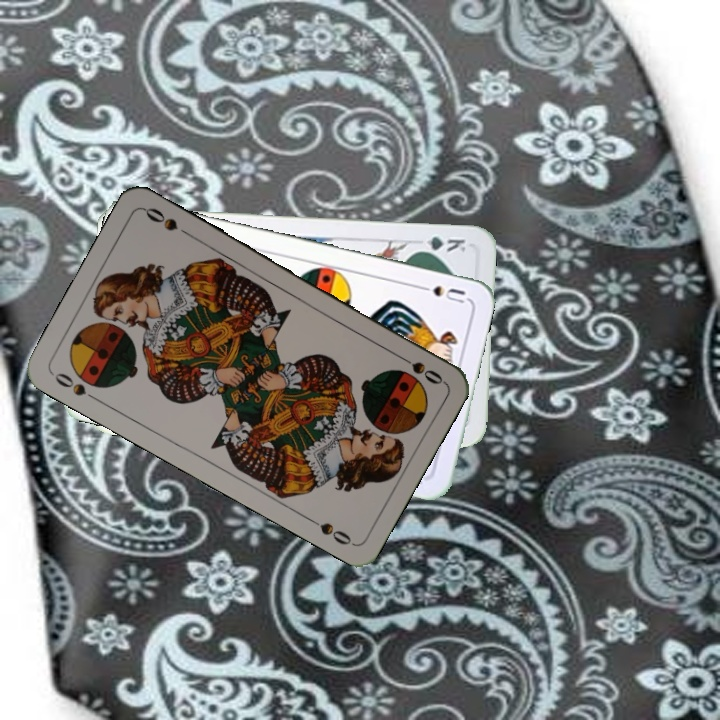GK: (411, 233, 468, 255)
SO: (392, 350, 446, 388), (48, 368, 102, 405)
SU: (411, 281, 468, 306)
